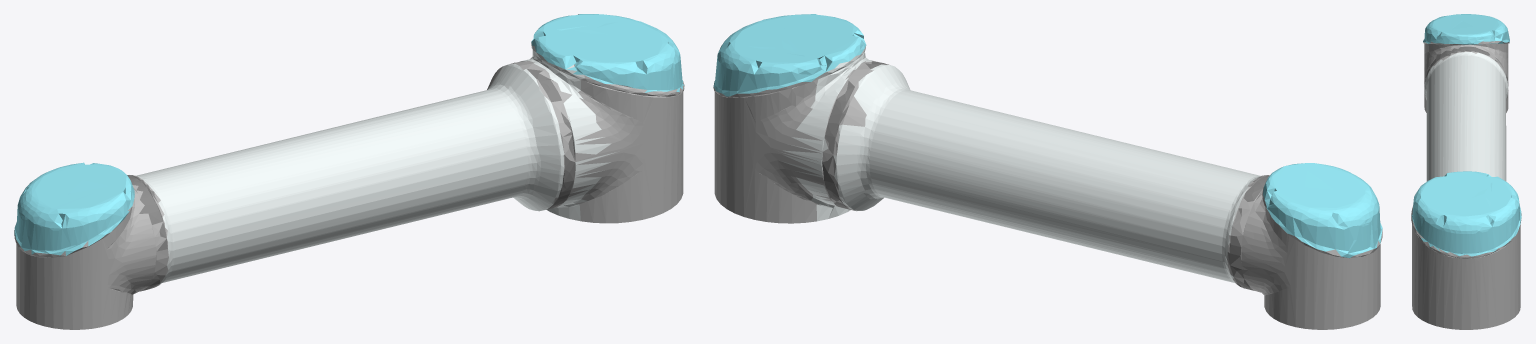
File: UR10eLink2.dae
3 renders of one model, left to right at view 1: azimuth 30°, elevation 25°; view 2: azimuth 150°, elevation 25°; view 3: azimuth 270°, elevation 25°, orthographic. The views are drawn at different scales.
Parts seen in each view (by area): view 1: UR10eLink2; view 2: UR10eLink2; view 3: UR10eLink2.
Boxes of the visible parts, x1,y1,x2,y2 form: UR10eLink2: (14, 14, 684, 329); UR10eLink2: (713, 14, 1382, 329); UR10eLink2: (1411, 14, 1521, 329).
Size of the model in its own units: 0.7492 by 0.1523 by 0.1745.
